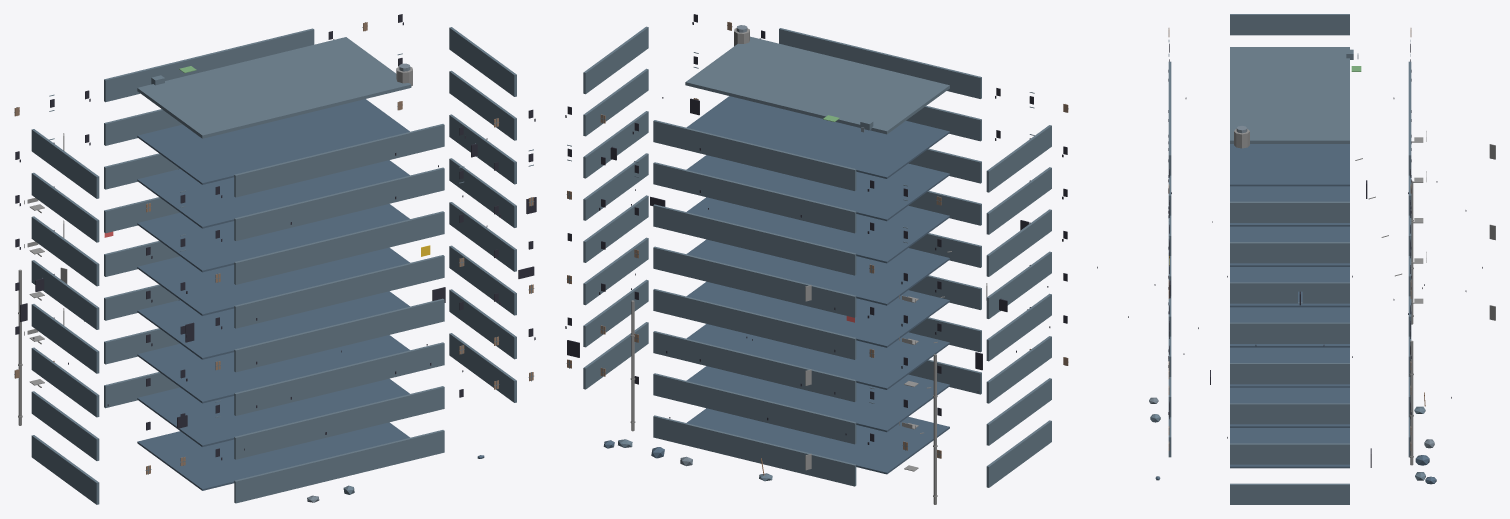
The model's file is building_top_right.glb.
3 views of the same model, side by side, from view 1: azimuth 30°, elevation 25°; view 2: azimuth 150°, elevation 25°; view 3: azimuth 270°, elevation 25° (orthographic). The views are drawn at different scales.
Visible parts, largest first — view 1: BuildingMesh; view 2: BuildingMesh; view 3: BuildingMesh.
Boxes of the visible parts, left/top/right/bottom form: BuildingMesh: left=14, top=14, right=536, bottom=504; BuildingMesh: left=565, top=14, right=1068, bottom=504; BuildingMesh: left=1097, top=14, right=1495, bottom=504.
Size of the model in its own units: 10.6 by 8.51 by 8.97.
